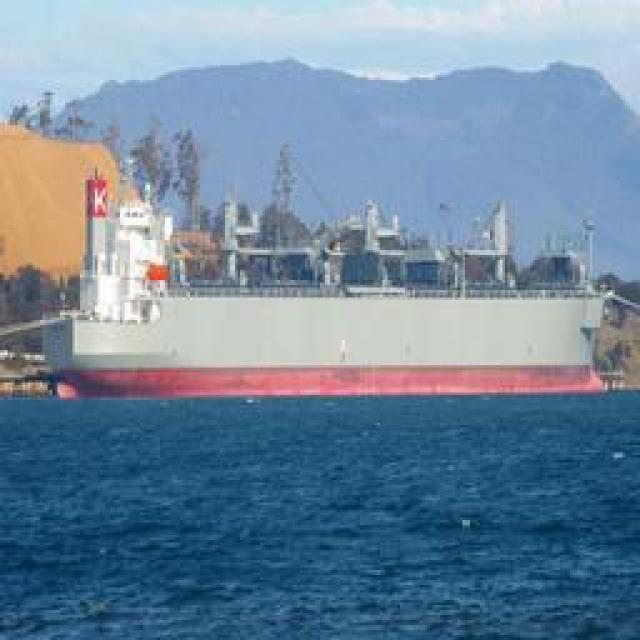Ship: (37, 159, 615, 429)
